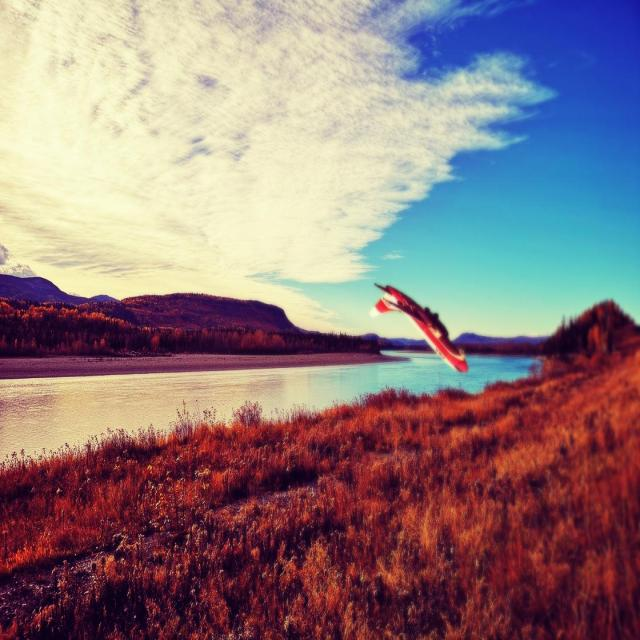airplane: (372, 282, 468, 373)
